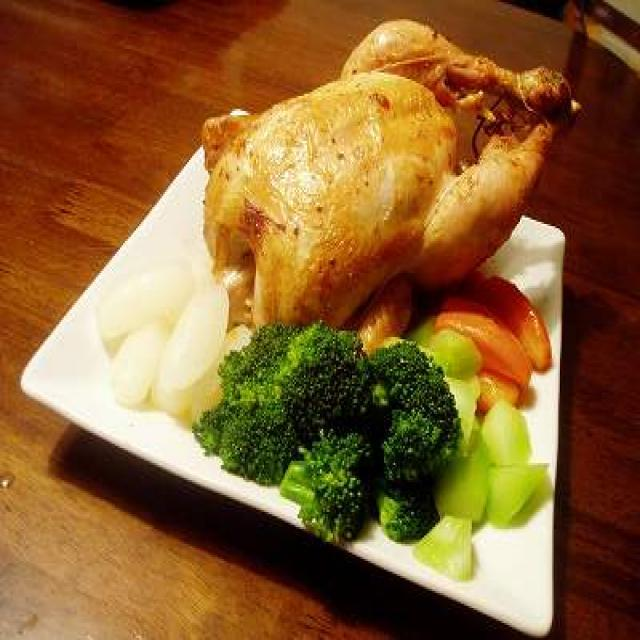Broccoli: (213, 327, 471, 532)
Chicken roast: (189, 26, 568, 276)
Tomato: (447, 305, 556, 377)
